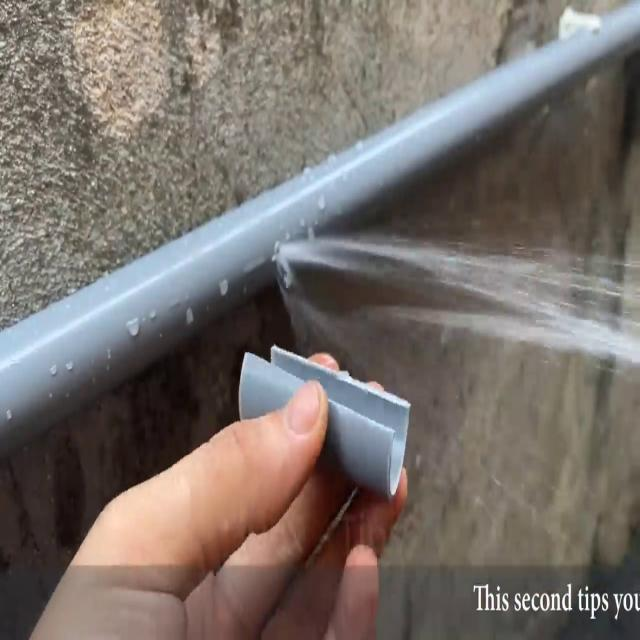leak: (274, 232, 640, 382)
